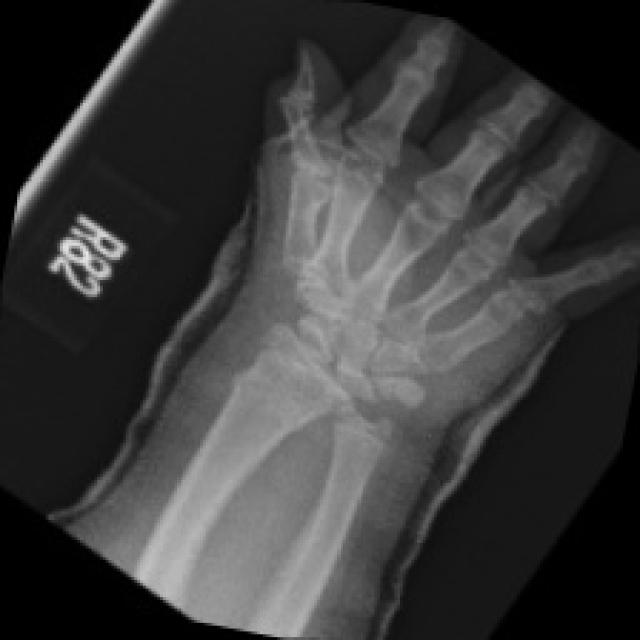fracture: (234, 343, 322, 448)
